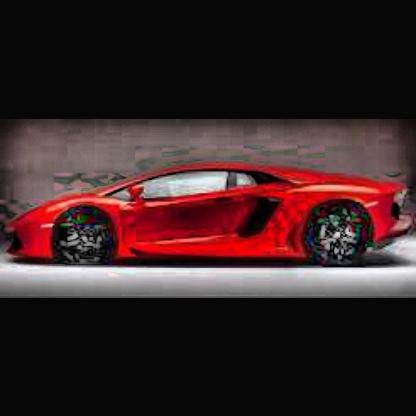Lamborghini Aventador Coupe 2012: (5, 156, 412, 272)
